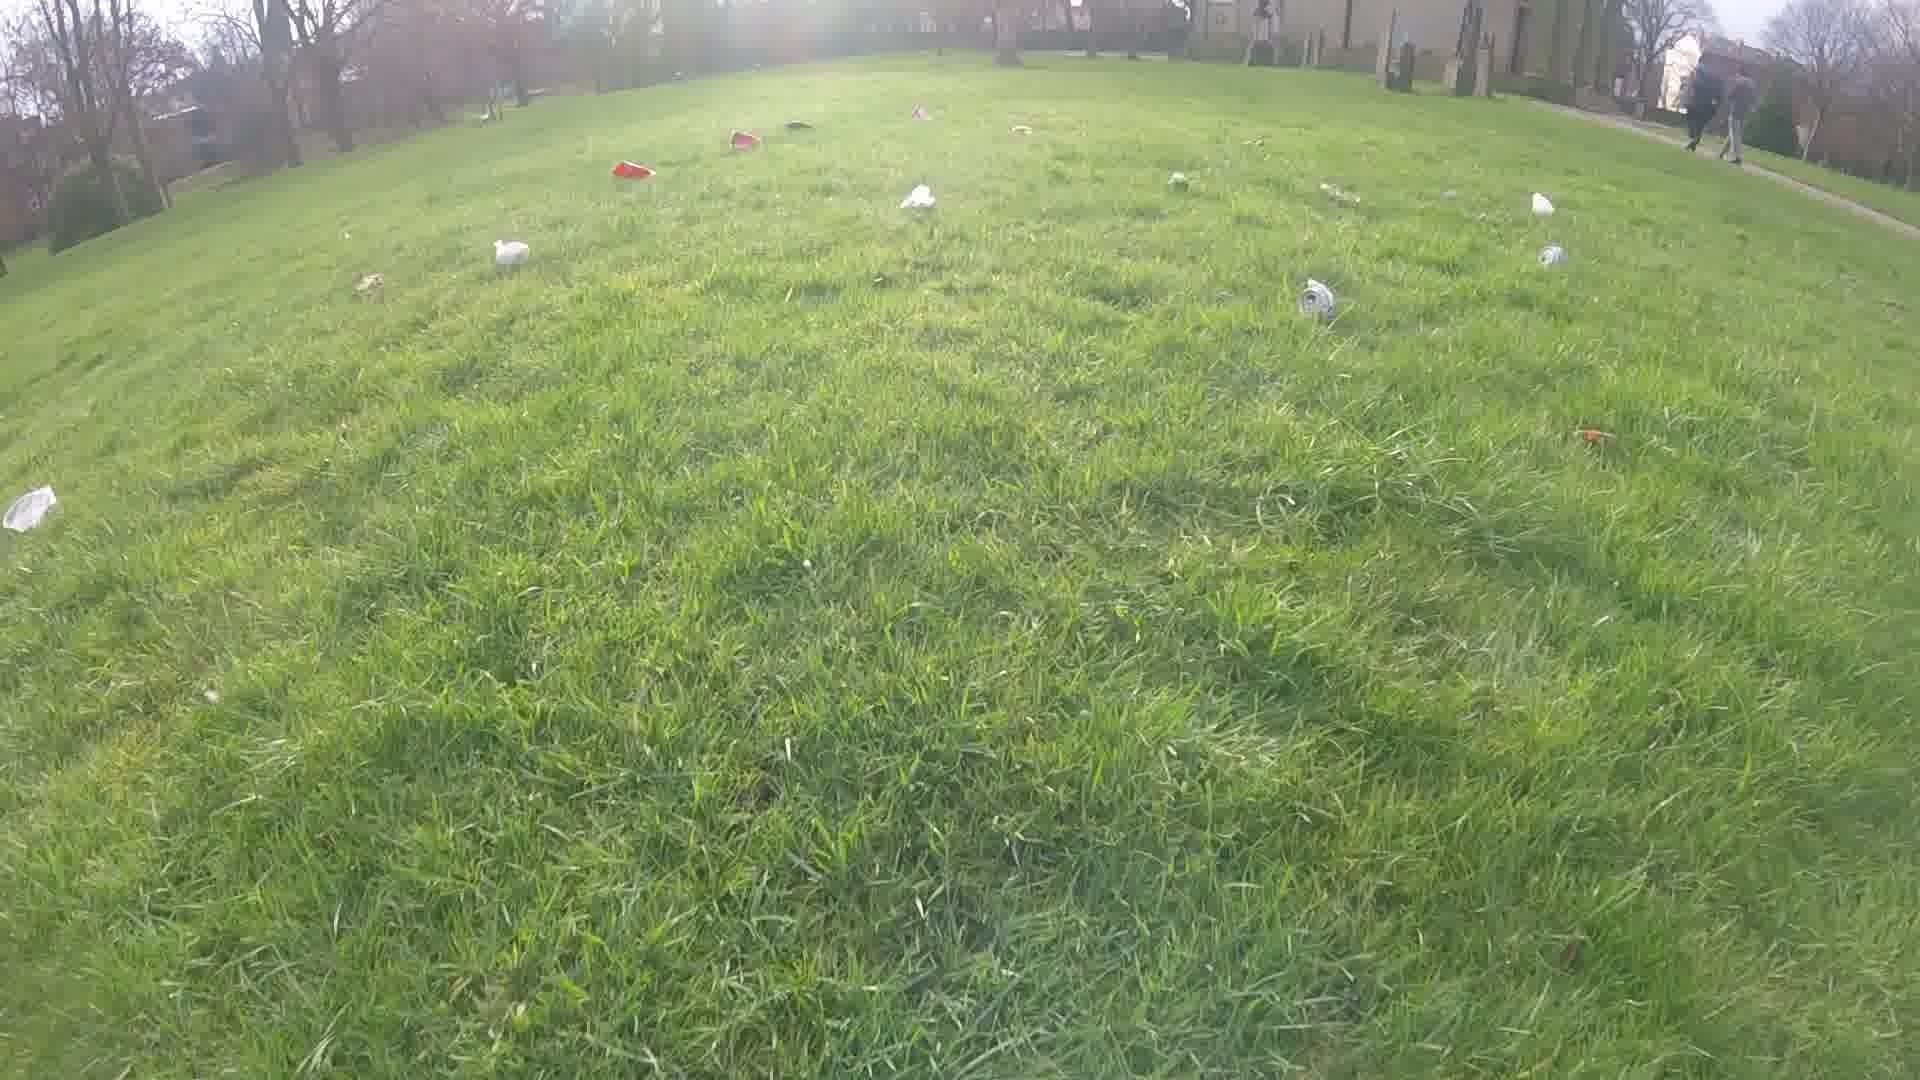litter: (3, 483, 55, 535), (1288, 289, 1338, 311), (496, 243, 527, 274), (894, 187, 939, 207), (613, 161, 655, 179), (1324, 185, 1357, 203), (1160, 171, 1189, 191), (1531, 195, 1556, 218), (352, 272, 380, 291), (909, 105, 939, 123), (728, 135, 764, 149), (1539, 247, 1563, 268), (1001, 125, 1034, 138), (785, 121, 818, 131), (1436, 189, 1464, 198)
